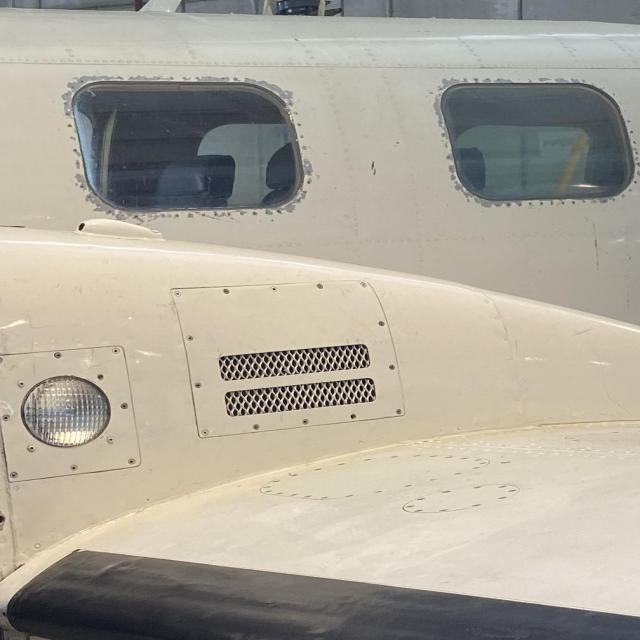Missing-head: (350, 413, 357, 421)
Paint-off: (60, 75, 124, 120), (241, 75, 295, 100), (82, 192, 107, 212), (475, 196, 516, 206), (441, 74, 463, 92), (430, 95, 441, 117), (494, 74, 512, 85), (302, 160, 314, 175), (277, 202, 294, 212), (568, 73, 585, 83)
